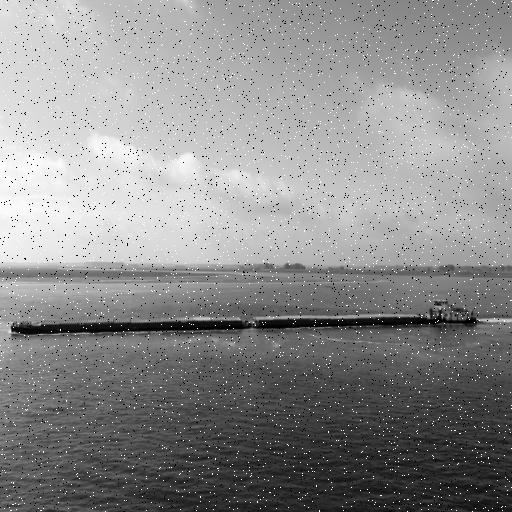tugboat: (416, 296, 482, 334)
